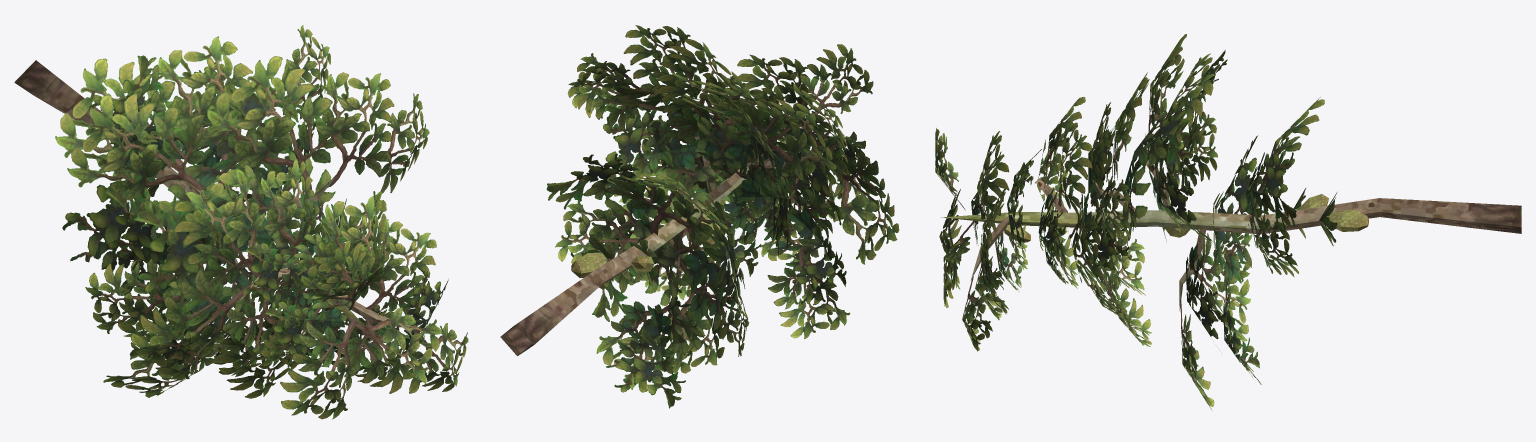
The model's file is boluomi.obj.
The picture shows the model from 3 angles, left to right: view 1: azimuth 30°, elevation 25°; view 2: azimuth 150°, elevation 25°; view 3: azimuth 270°, elevation 25°; orthographic projection. The views are drawn at different scales.
Visible parts, largest first — view 1: boluomi; view 2: boluomi; view 3: boluomi.
Boxes of the visible parts, x1=… form: boluomi: x1=14, y1=25, x2=468, y2=419; boluomi: x1=500, y1=25, x2=899, y2=408; boluomi: x1=935, y1=34, x2=1521, y2=409.
Bounding box in the file's own units: 136 × 150 × 224.
Materials: 1 (1 with a texture image).
